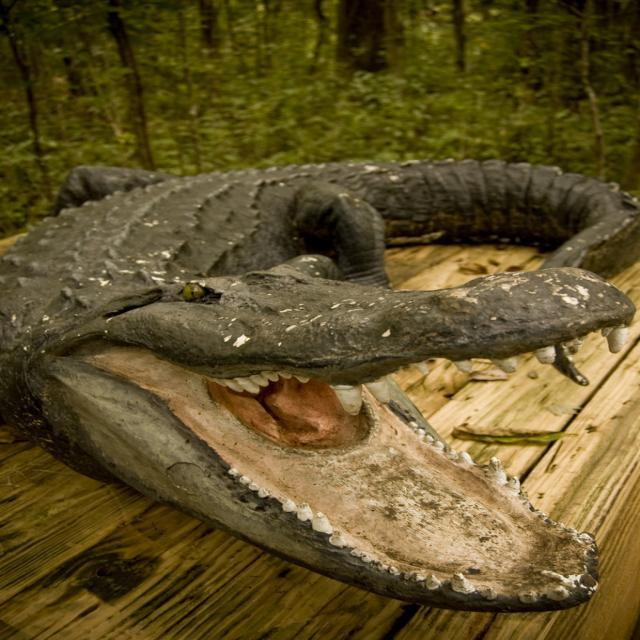crocodile: (0, 159, 639, 615)
